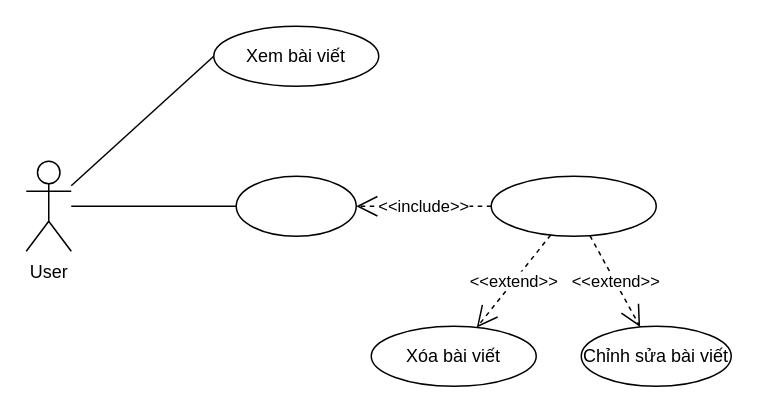
The diagram is 758 pixels wide and 413 high, and some of its shapes have lost their labels. The shapes that lost their labels are listed below. From the top down, each one's centre as x and y in pixels, then its label:
point 295,205: Đăng nhập
point 573,205: Tạo bài viết
